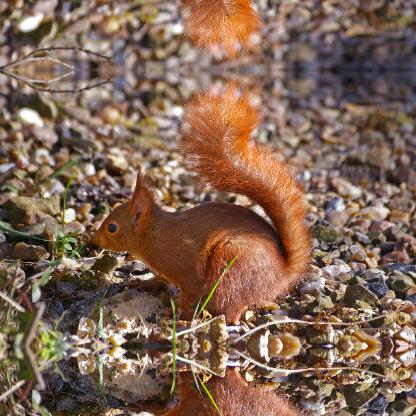Squirrel: (87, 72, 319, 324), (87, 0, 320, 67)
